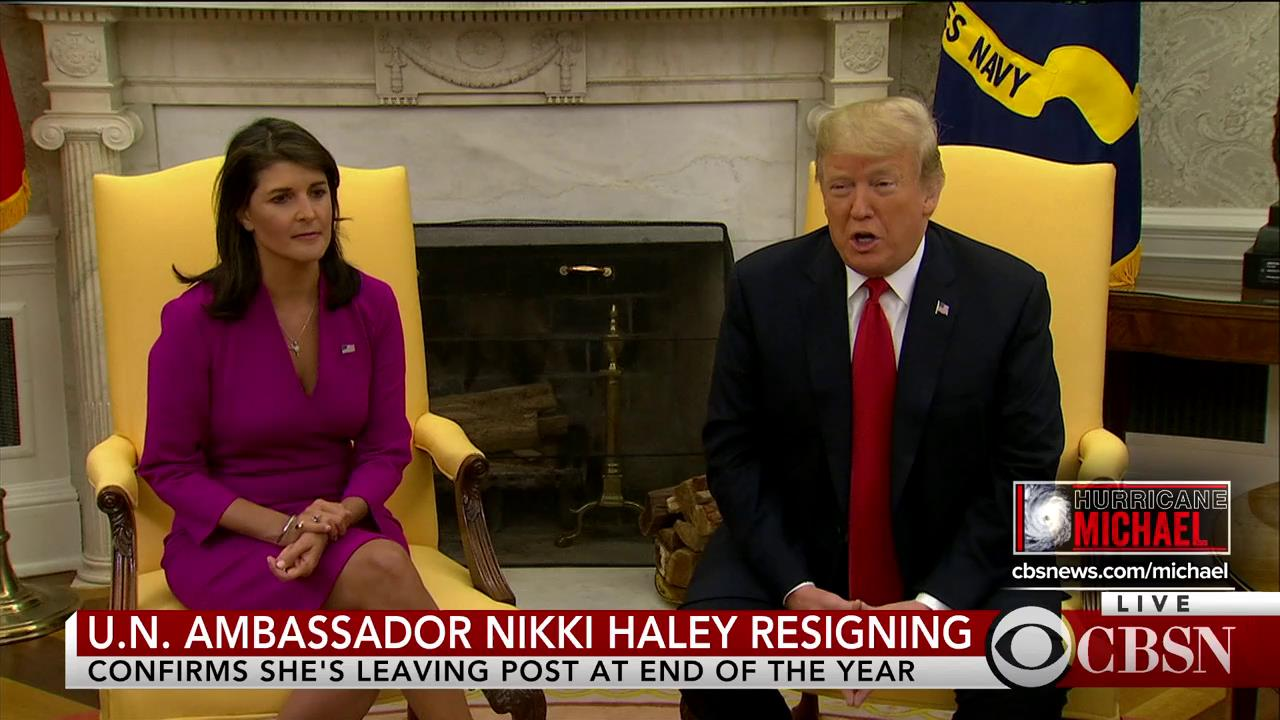CBSN: (1075, 621, 1237, 678)
CONFIRMS SHE'S LEAVING POST AT END OF THE YEAR: (86, 656, 916, 682)
ES: (939, 3, 966, 44)
HURRICANE: (1072, 486, 1228, 509)
LIVE: (1114, 590, 1194, 613)
MICHAEL: (1072, 509, 1209, 549)
NAVY: (967, 32, 1032, 97)
U.N. AMBASSADOR NIKKY HALEY RESIGNING: (87, 613, 972, 652)
cbsnews.com/michael: (1010, 560, 1232, 583)
